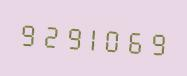nine: (17, 14, 37, 52), (59, 17, 79, 54), (143, 23, 163, 60)
one: (80, 19, 100, 56)
six: (122, 22, 142, 59)
two: (38, 16, 58, 53)
zero: (101, 20, 121, 57)
